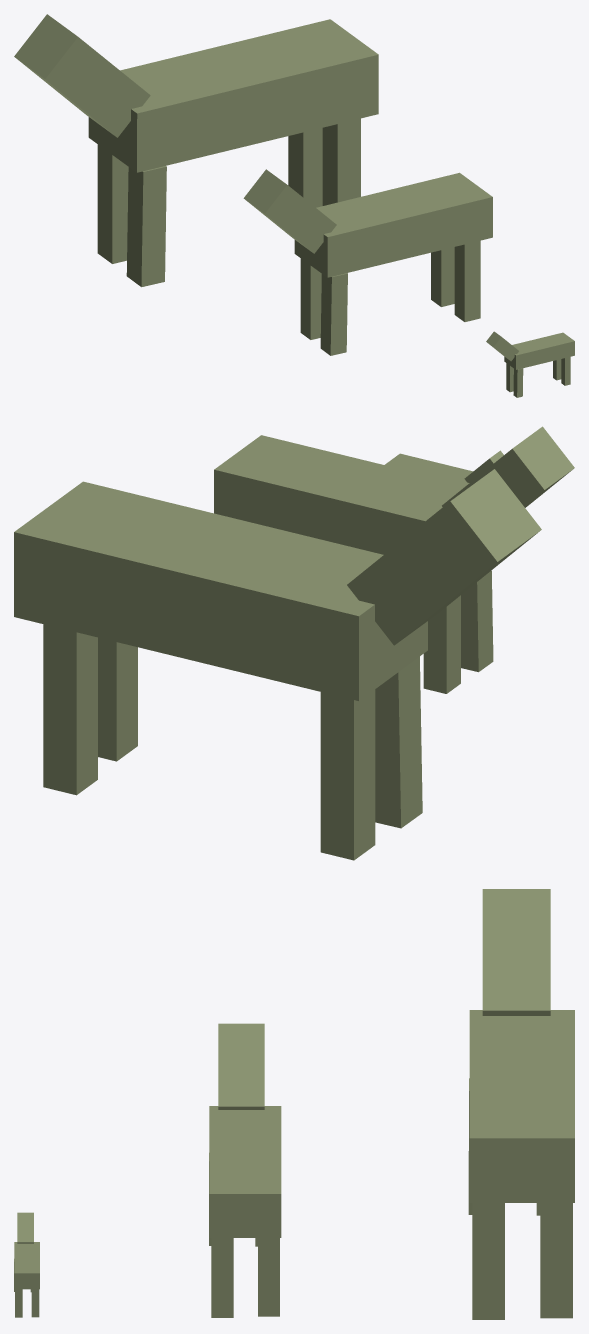
The model's file is quadruped-animal.glb.
3 views of the same model, one above another, from view 1: azimuth 30°, elevation 25°; view 2: azimuth 150°, elevation 25°; view 3: azimuth 270°, elevation 25° (orthographic). The views are drawn at different scales.
Parts seen in each view (by area): view 1: xier120.quadruped-animal.mesh.006, xier120.quadruped-animal.mesh.005, xier120.quadruped-animal.mesh.013, xier120.quadruped-animal.mesh.011, xier120.quadruped-animal.mesh.002, xier120.quadruped-animal.mesh.001, xier120.quadruped-animal.mesh.016, xier120.quadruped-animal.mesh.014, xier120.quadruped-animal.mesh.015, xier120.quadruped-animal.mesh.004, xier120.quadruped-animal.mesh.009, xier120.quadruped-animal.mesh.012 (+1 smaller); view 2: xier120.quadruped-animal.mesh.006, xier120.quadruped-animal.mesh.005, xier120.quadruped-animal.mesh.013, xier120.quadruped-animal.mesh.001, xier120.quadruped-animal.mesh.014, xier120.quadruped-animal.mesh.011, xier120.quadruped-animal.mesh.016, xier120.quadruped-animal.mesh.002, xier120.quadruped-animal.mesh.012, xier120.quadruped-animal.mesh.015, xier120.quadruped-animal.mesh.009; view 3: xier120.quadruped-animal.mesh.006, xier120.quadruped-animal.mesh.005, xier120.quadruped-animal.mesh.013, xier120.quadruped-animal.mesh.002, xier120.quadruped-animal.mesh.016, xier120.quadruped-animal.mesh.014, xier120.quadruped-animal.mesh.004, xier120.quadruped-animal.mesh.003, xier120.quadruped-animal.mesh.009, xier120.quadruped-animal.mesh.017.
Boxes of the visible parts, x1,y1,x2,y2 form: xier120.quadruped-animal.mesh.006: [88, 19, 378, 172]; xier120.quadruped-animal.mesh.005: [294, 172, 492, 277]; xier120.quadruped-animal.mesh.013: [14, 14, 150, 137]; xier120.quadruped-animal.mesh.011: [126, 166, 166, 287]; xier120.quadruped-animal.mesh.002: [243, 169, 336, 253]; xier120.quadruped-animal.mesh.001: [97, 144, 128, 263]; xier120.quadruped-animal.mesh.016: [322, 118, 360, 205]; xier120.quadruped-animal.mesh.014: [288, 128, 322, 207]; xier120.quadruped-animal.mesh.015: [320, 273, 347, 355]; xier120.quadruped-animal.mesh.004: [454, 240, 480, 321]; xier120.quadruped-animal.mesh.009: [504, 332, 574, 369]; xier120.quadruped-animal.mesh.012: [300, 258, 321, 339]; xier120.quadruped-animal.mesh.006: [14, 481, 427, 700]; xier120.quadruped-animal.mesh.005: [214, 435, 466, 554]; xier120.quadruped-animal.mesh.013: [347, 469, 541, 645]; xier120.quadruped-animal.mesh.001: [320, 689, 375, 860]; xier120.quadruped-animal.mesh.014: [43, 624, 97, 795]; xier120.quadruped-animal.mesh.011: [375, 656, 422, 828]; xier120.quadruped-animal.mesh.016: [98, 637, 137, 761]; xier120.quadruped-animal.mesh.002: [442, 426, 574, 507]; xier120.quadruped-animal.mesh.012: [423, 595, 460, 693]; xier120.quadruped-animal.mesh.015: [461, 570, 493, 672]; xier120.quadruped-animal.mesh.009: [385, 453, 472, 484]; xier120.quadruped-animal.mesh.006: [469, 1010, 574, 1202]; xier120.quadruped-animal.mesh.005: [209, 1106, 281, 1237]; xier120.quadruped-animal.mesh.013: [482, 889, 550, 1015]; xier120.quadruped-animal.mesh.002: [218, 1023, 264, 1109]; xier120.quadruped-animal.mesh.016: [472, 1203, 504, 1319]; xier120.quadruped-animal.mesh.014: [540, 1203, 572, 1318]; xier120.quadruped-animal.mesh.004: [211, 1238, 233, 1317]; xier120.quadruped-animal.mesh.003: [258, 1238, 279, 1316]; xier120.quadruped-animal.mesh.009: [14, 1242, 39, 1289]; xier120.quadruped-animal.mesh.017: [17, 1212, 33, 1243].
Size of the model in its own units: 2.08 by 1.58 by 2.84.
